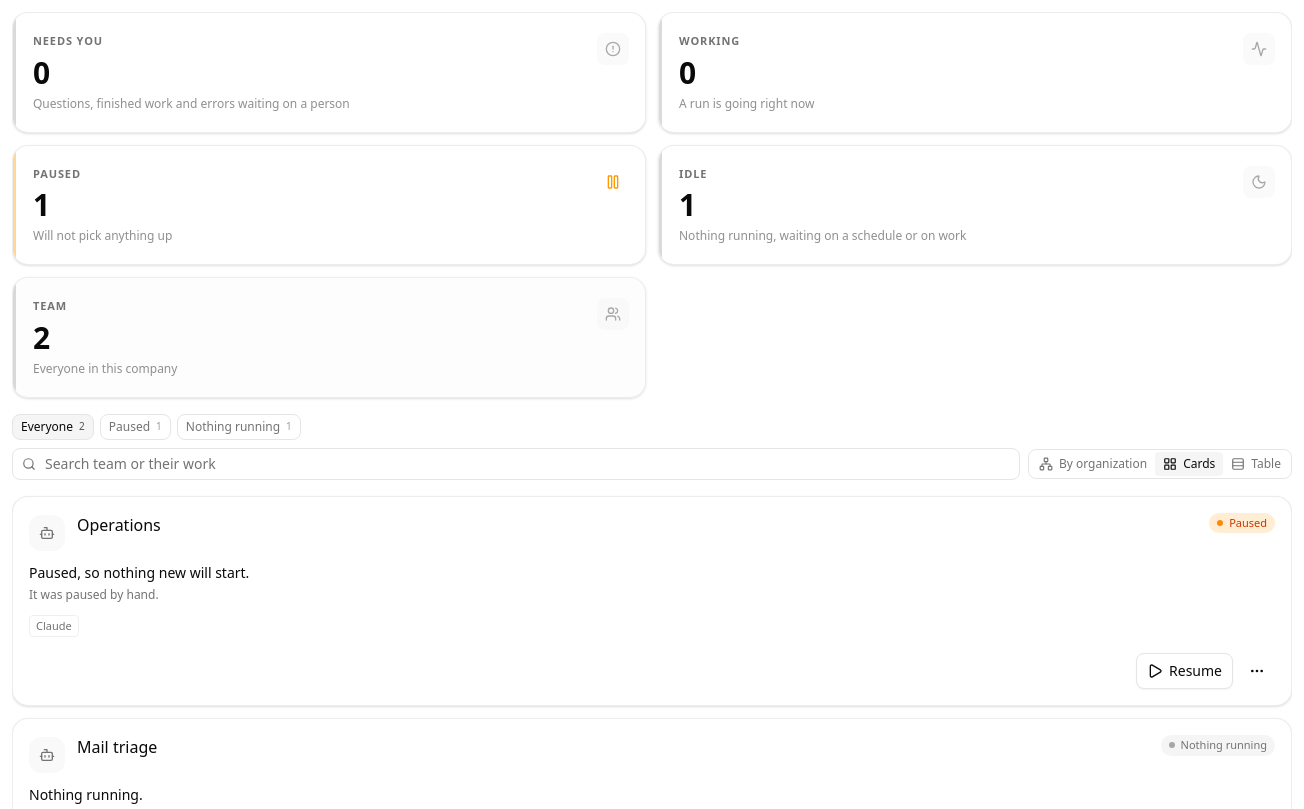
Test: TeamCurrentWork › narrows the list when a filter is picked
Click the button "Paused 1" at (135, 426), box [100,414,171,440]
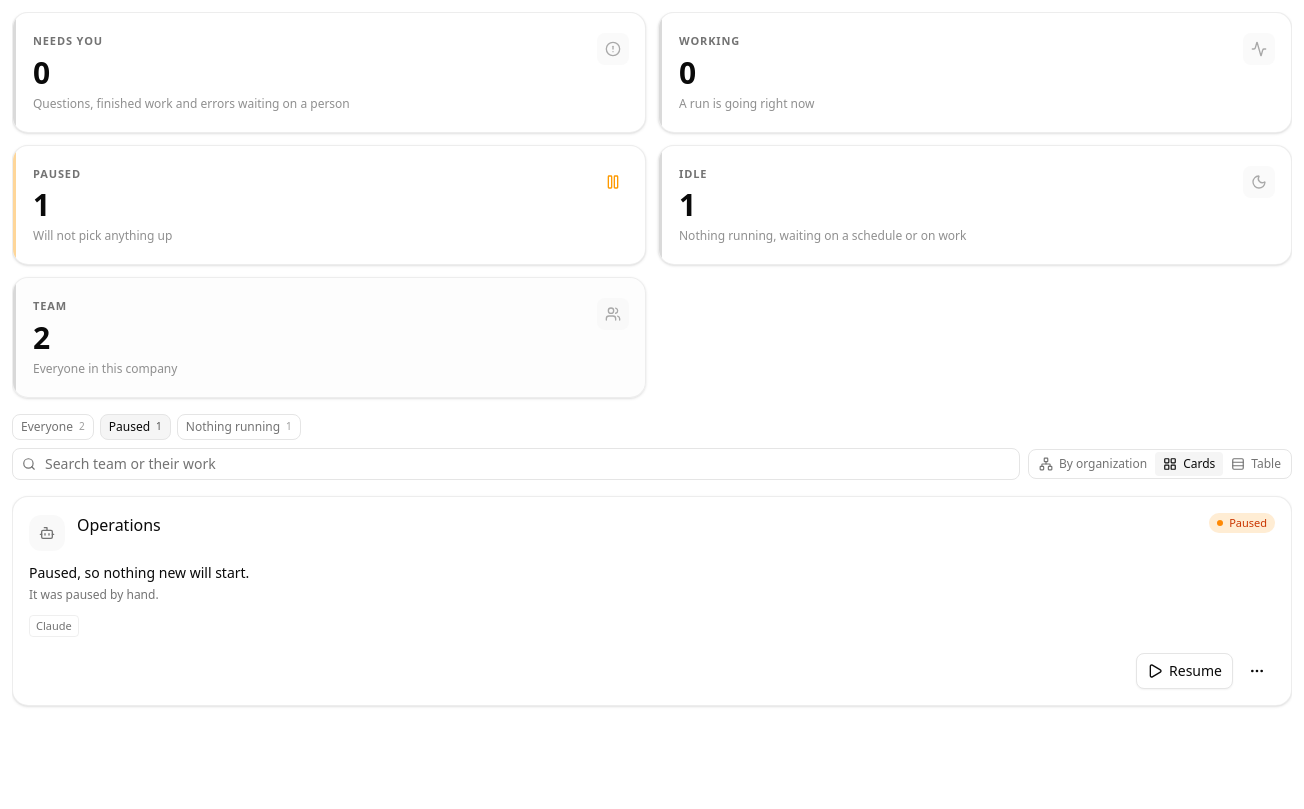
Expected: the text "Operations" is shown, [77,512,161,536]
Expected: the text "Mail triage" is gone
